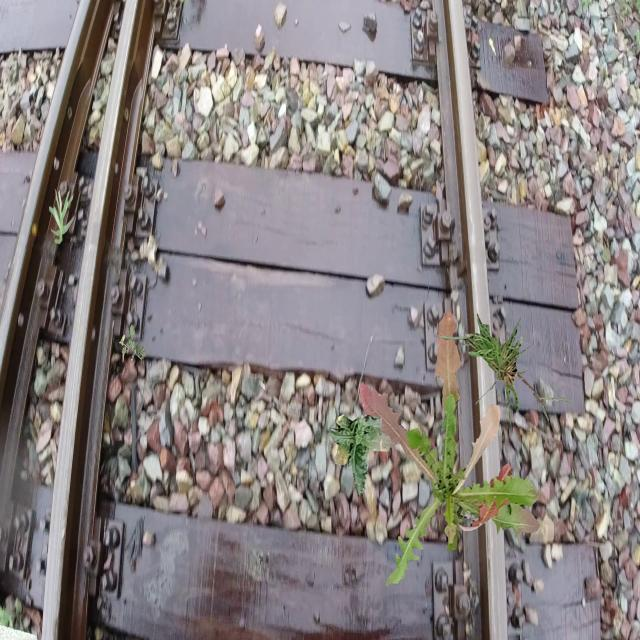Plant: (360, 308, 540, 586), (429, 313, 572, 432), (329, 414, 392, 497), (49, 188, 76, 244), (119, 325, 146, 366)
